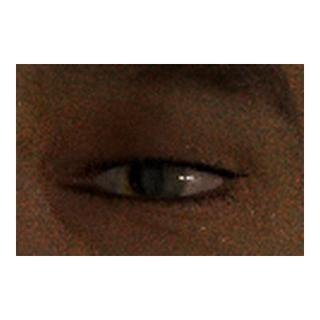pupil: (129, 159, 164, 195)
